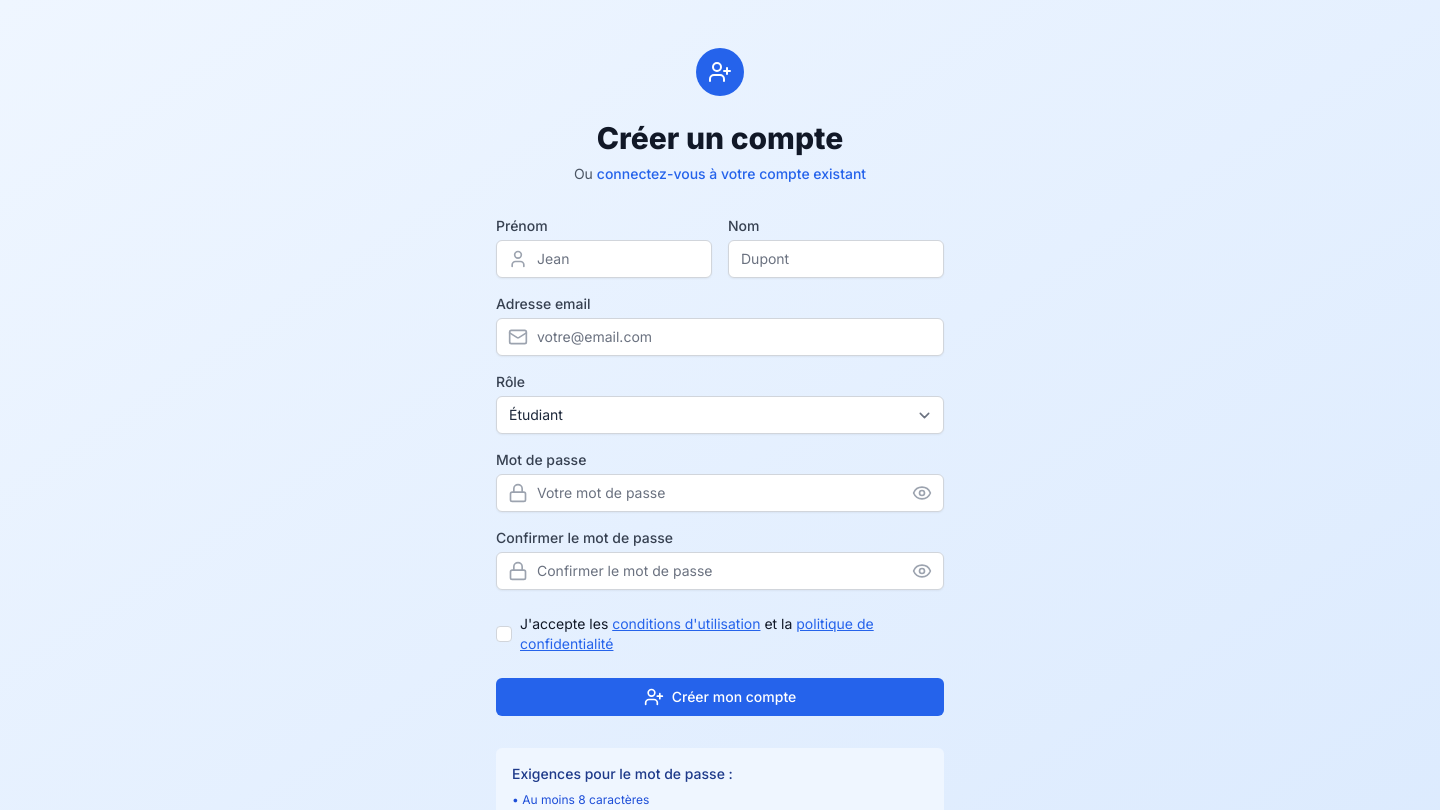
it: RegisterForm › Form Validation › shows error for password too short
In the password field with placeholder "Votre mot de passe": (720, 493) [496, 474, 944, 512], type "123"
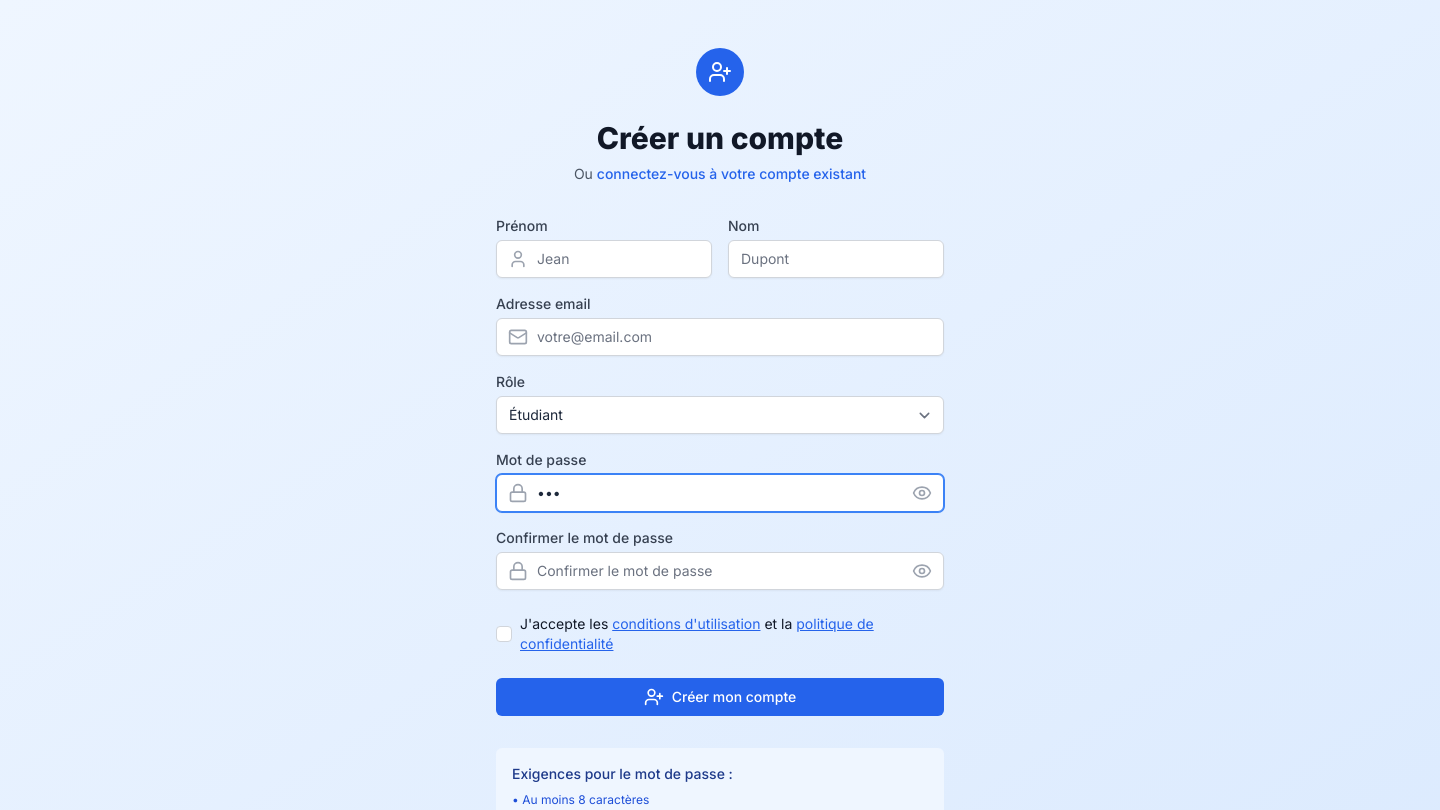
Click the button "Créer mon compte": click(720, 697) [496, 678, 944, 716]
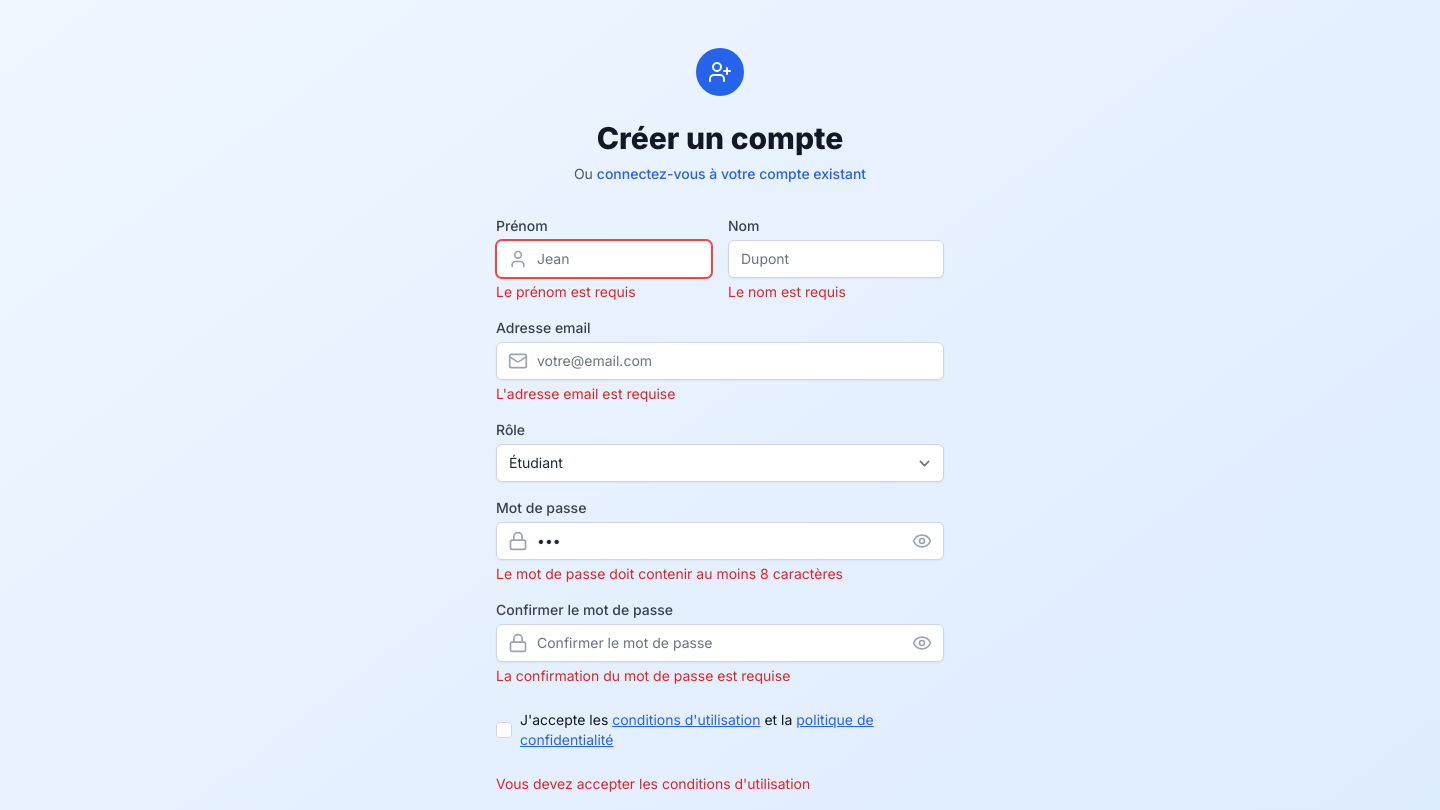
expect the text "Le mot de passe doit contenir au moins 8 caractères" is shown: met, box [496, 565, 843, 582]
